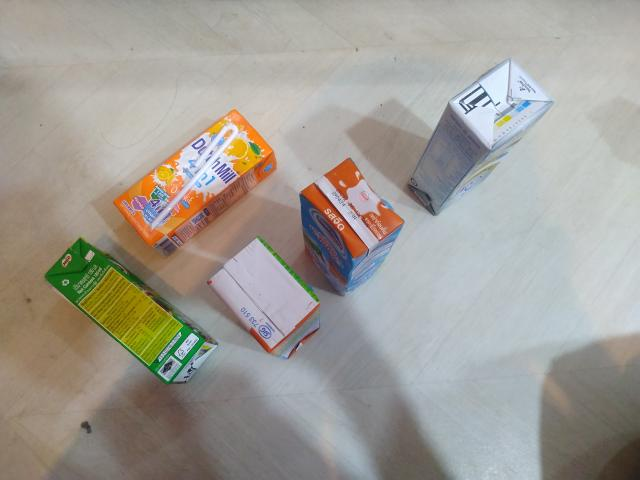drink_box: (26, 218, 234, 412), (92, 89, 305, 273), (407, 56, 565, 218), (294, 154, 408, 294), (204, 235, 330, 355)
